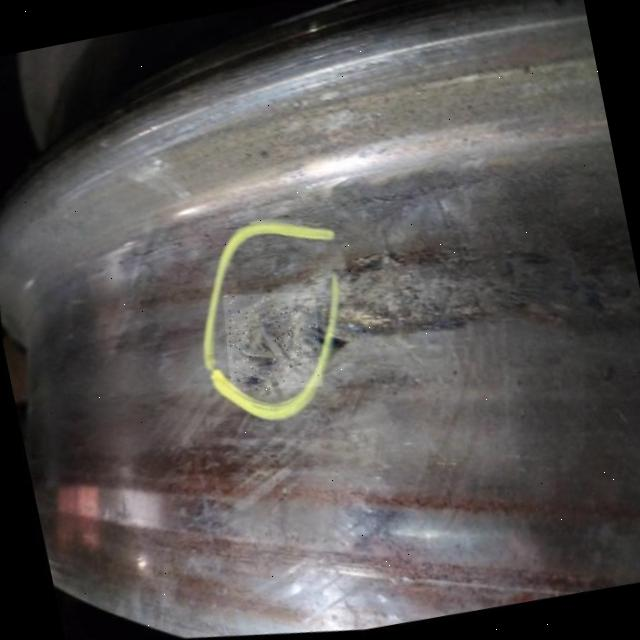Rollerpile: (213, 280, 336, 406)
